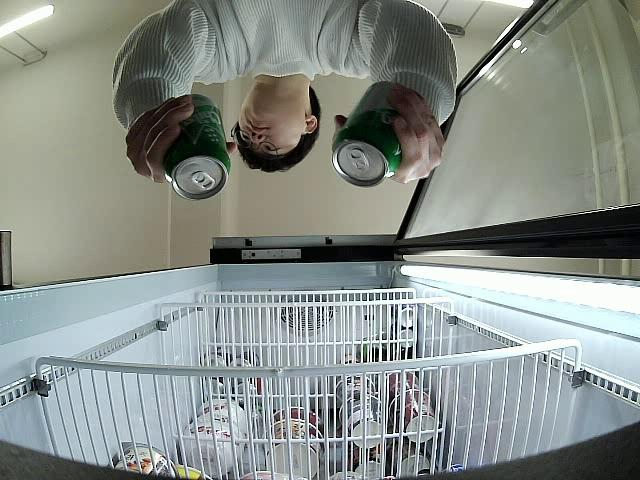00_hand: (335, 83, 447, 188), (125, 96, 236, 182)
12_chilsungCider: (333, 80, 403, 189), (163, 93, 231, 201)
